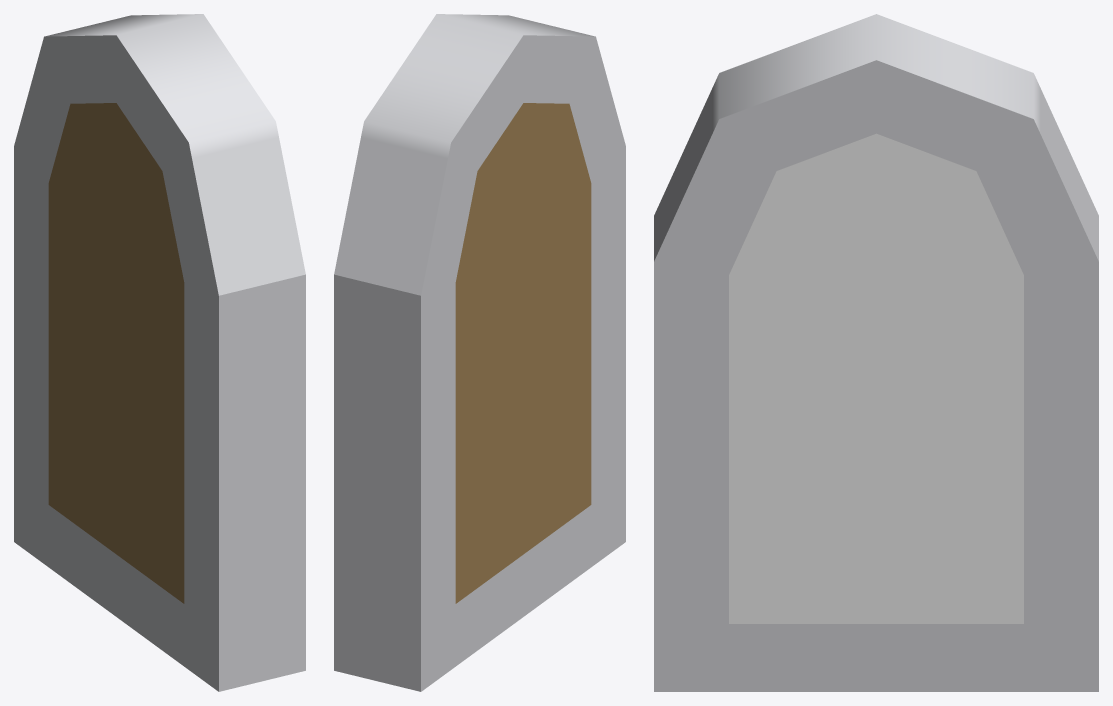
Rendered from Iron_Door_01.obj.
3 renders of one model, left to right at view 1: azimuth 30°, elevation 25°; view 2: azimuth 150°, elevation 25°; view 3: azimuth 270°, elevation 25°, orthographic. The views are drawn at different scales.
Parts seen in each view (by area): view 1: Mesh1 Iron_Door Model; view 2: Mesh1 Iron_Door Model; view 3: Mesh1 Iron_Door Model.
Part boxes in pixels (x1,y1,x2,y2): Mesh1 Iron_Door Model: [14, 14, 305, 691]; Mesh1 Iron_Door Model: [334, 14, 625, 691]; Mesh1 Iron_Door Model: [654, 14, 1098, 691].
Size of the model in its own units: 0.3 by 1.92 by 1.22.
